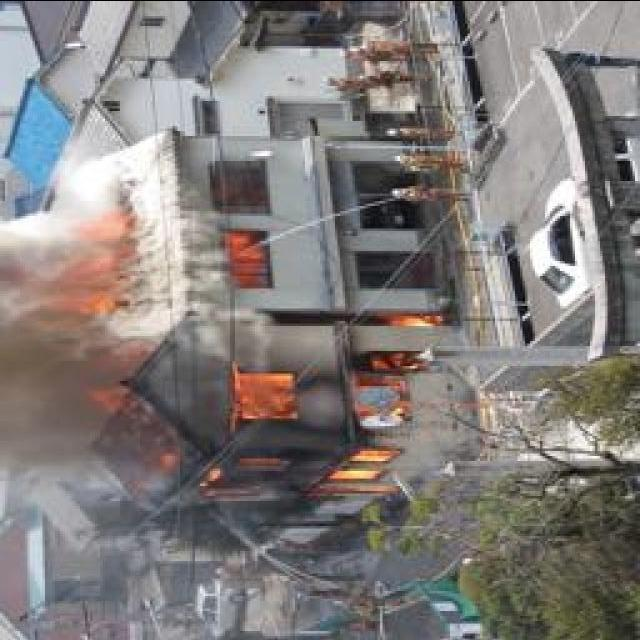Fire: (155, 346, 436, 535), (45, 188, 139, 324), (218, 172, 274, 294)
